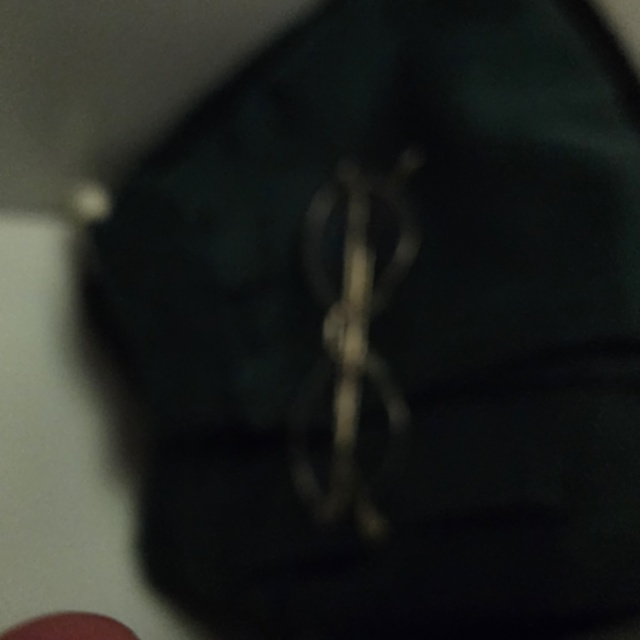glasses: (271, 142, 449, 563)
